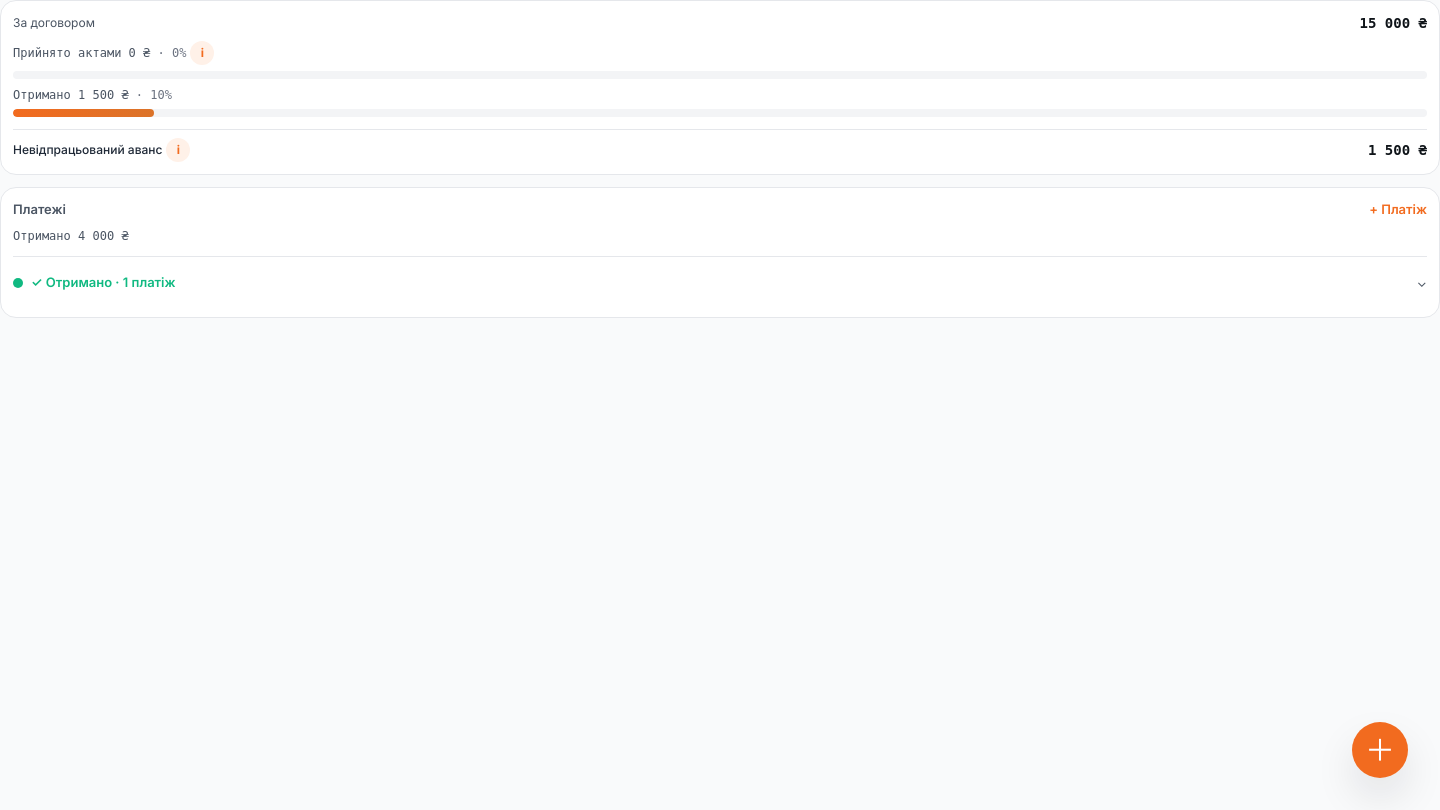
Test: ObjectEconomySection › an object carrying only unplanned receipts keeps them — and says how much landed
The width and height of the screenshot is (1440, 810).
Check: the text "Отримано 4 000 ₴" is shown, box [13,228,129,242]
Click the text "✓ Отримано · 1 платіж" at {"x": 103, "y": 282}, box [31,274,176,290]
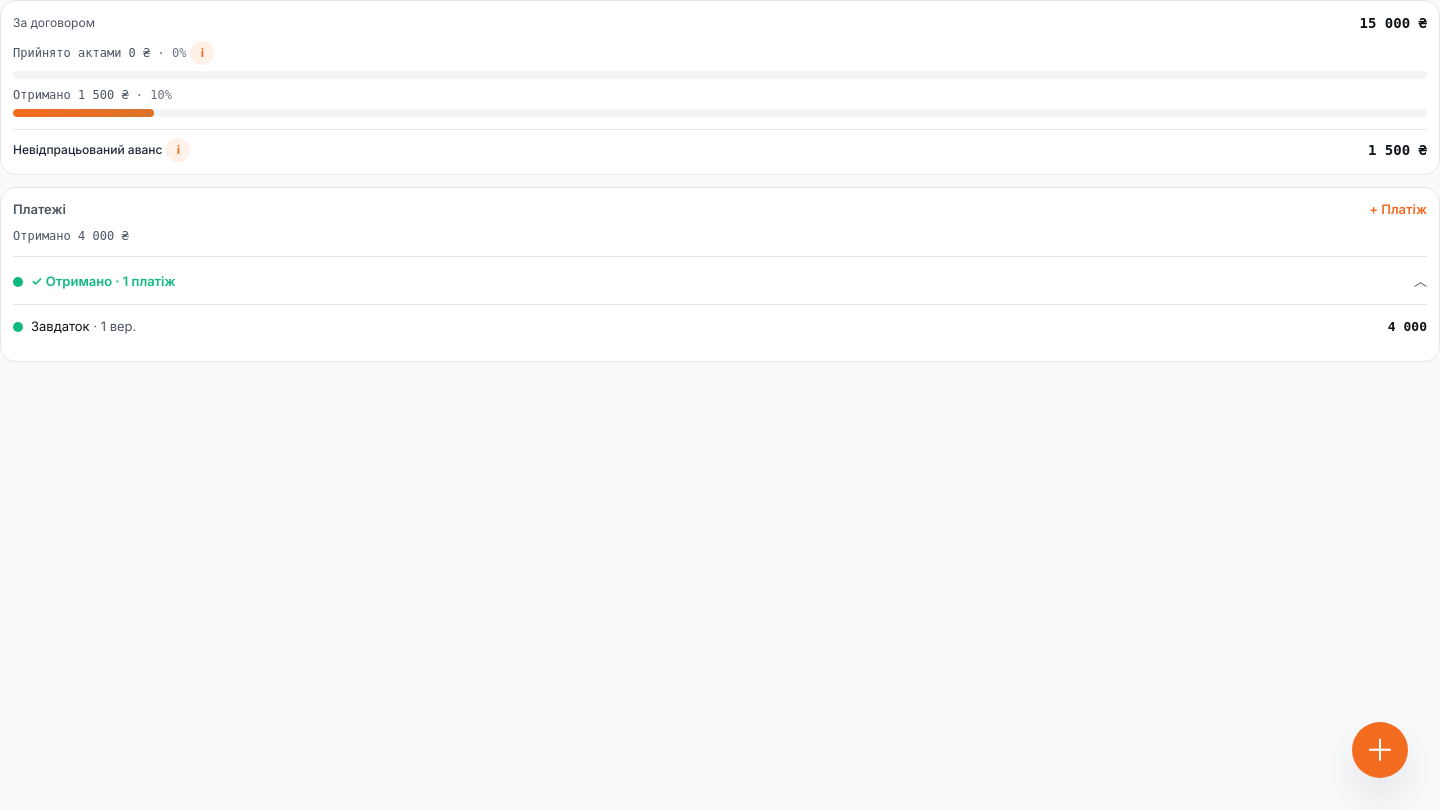
Check: the text "Завдаток" is shown, box [31,318,90,334]
